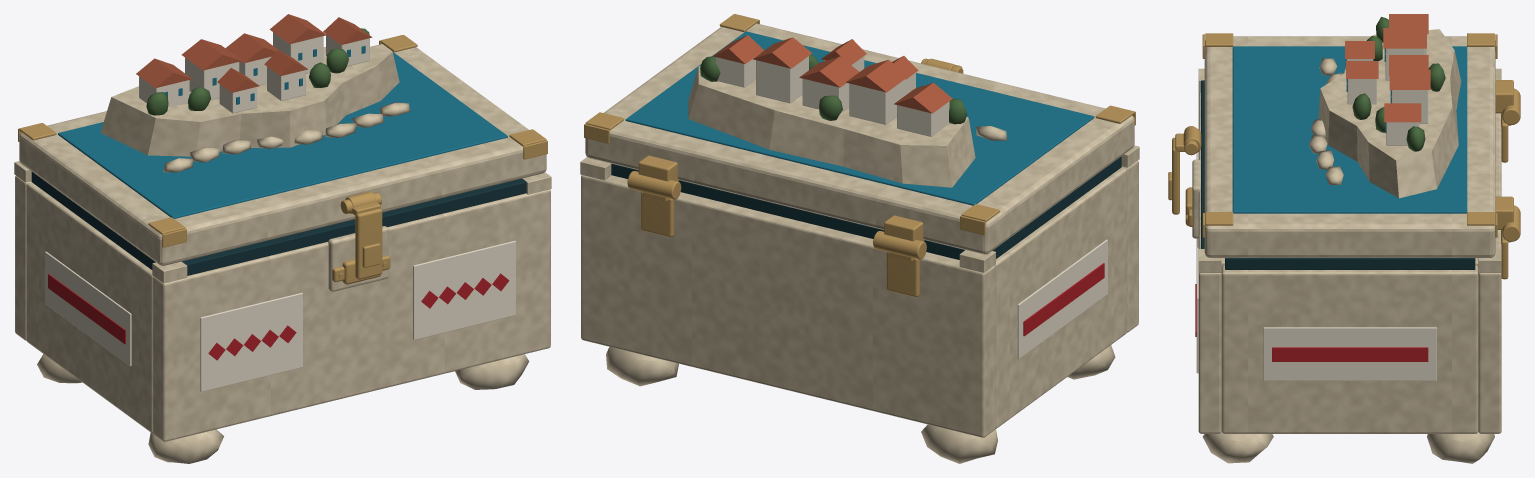
Rendered from monaco.glb.
The picture shows the model from 3 angles, left to right: view 1: azimuth 30°, elevation 25°; view 2: azimuth 150°, elevation 25°; view 3: azimuth 270°, elevation 25°; orthographic projection. The views are drawn at different scales.
Parts seen in each view (by area): view 1: Stone / front, Lid / polished slab, Riviera / sea inset, Stone / side, Riviera / Rock promontory, Inlay / ivory frame.001, Inlay / ivory frame, Mineral seam / long, Inlay / side ivory, Stone / rear, Stone foot, Stone foot.002 (+20 smaller); view 2: Stone / rear, Lid / polished slab, Stone / side, Riviera / Rock promontory, Riviera / sea inset, Inlay / side ivory, Mineral seam / long.001, Stone / front, Stone foot.001, Stone foot.003, Old town / building 3, Old town / building 1 (+20 smaller); view 3: Stone / side.001, Lid / polished slab, Riviera / sea inset, Riviera / Rock promontory, Inlay / side ivory.001, Stone / rear, Stone / front, Mineral seam / side.001, Inlay / side crimson.001, Stone foot.003, Stone foot.002, Old town / roof 1 (+27 smaller).
Boxes of the visible parts, x1,y1,x2,y2 form: Stone / front: (153, 189, 550, 441); Lid / polished slab: (19, 44, 546, 265); Riviera / sea inset: (58, 51, 507, 218); Stone / side: (26, 182, 153, 433); Riviera / Rock promontory: (100, 46, 399, 156); Inlay / ivory frame.001: (413, 240, 515, 339); Inlay / ivory frame: (200, 292, 302, 391); Mineral seam / long: (182, 178, 526, 275); Inlay / side ivory: (45, 251, 131, 366); Stone / rear: (15, 176, 31, 340); Stone foot: (148, 429, 223, 463); Stone foot.002: (455, 354, 529, 389); Stone / rear: (581, 175, 995, 437); Lid / polished slab: (585, 23, 1134, 254); Stone / side: (994, 167, 1126, 428); Riviera / Rock promontory: (688, 66, 975, 187); Riviera / sea inset: (625, 31, 1094, 205); Inlay / side ivory: (1017, 239, 1107, 359); Mineral seam / long.001: (611, 163, 964, 259); Stone / front: (1121, 160, 1138, 332); Stone foot.001: (921, 424, 997, 463); Stone foot.003: (606, 346, 678, 386); Old town / building 3: (756, 56, 808, 103); Old town / building 1: (849, 79, 905, 124); Stone / side.001: (1221, 265, 1478, 433); Lid / polished slab: (1204, 36, 1495, 257); Riviera / sea inset: (1232, 46, 1467, 213); Riviera / Rock promontory: (1318, 29, 1461, 198); Inlay / side ivory.001: (1263, 327, 1436, 380); Stone / rear: (1478, 113, 1501, 433); Stone / front: (1198, 92, 1221, 433); Mineral seam / side.001: (1225, 258, 1475, 269); Inlay / side crimson.001: (1272, 347, 1428, 361); Stone foot.003: (1427, 432, 1494, 463); Stone foot.002: (1202, 432, 1273, 463); Old town / roof 1: (1383, 28, 1426, 48).
Size of the model in its own units: 3.77 by 3.03 by 2.88.
8 materials, 1 textured.
